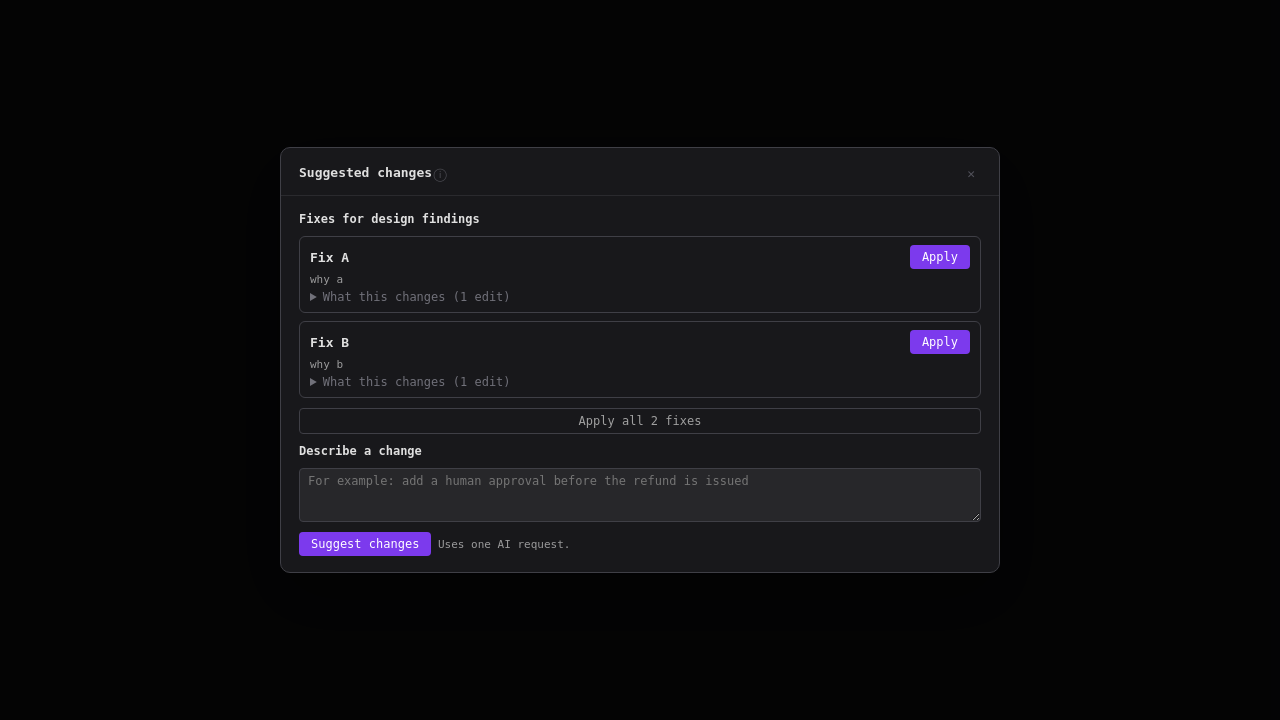
SuggestionsModal — fixes › reports changes the server could not apply, and does not edit when none applied
Step 1. Click the button with aria-label "Apply: Fix A" → (940, 257), box [910,245,970,269]
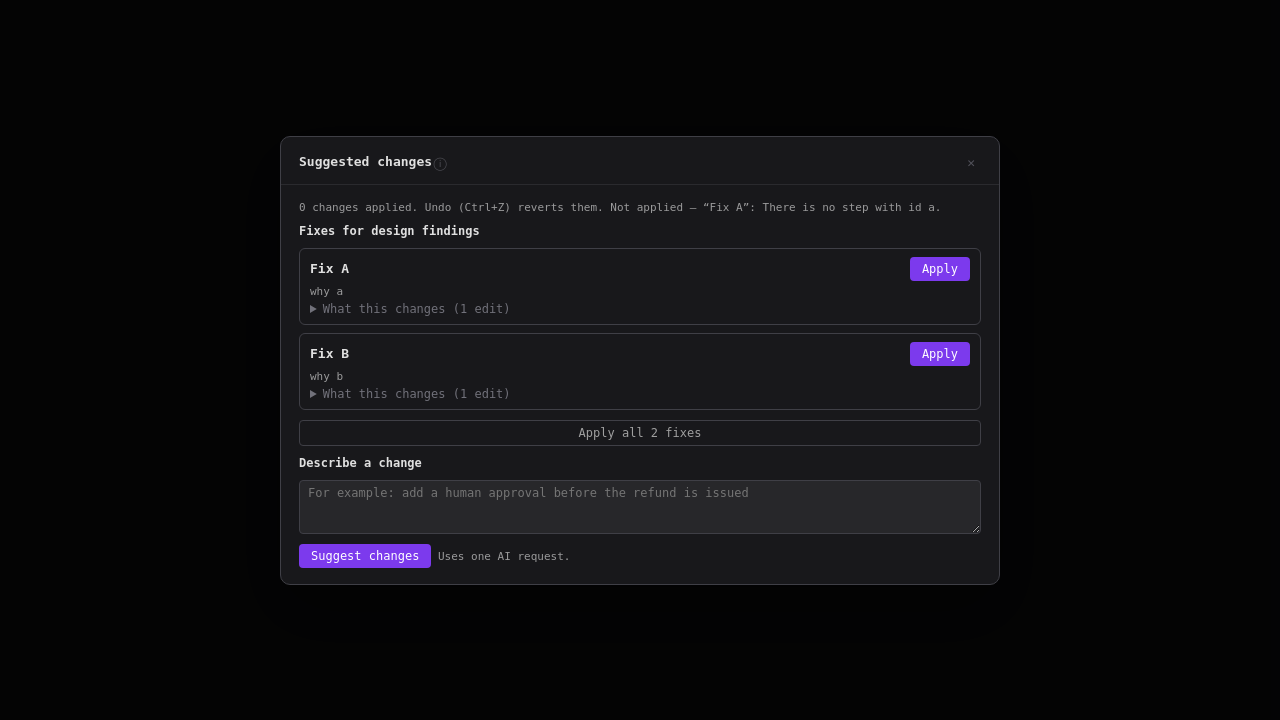
Check: the message shows "0 changes applied", box [299,200,941,214]
Check: the message shows "“Fix A”: There is no step with id a.", box [299,200,941,214]
